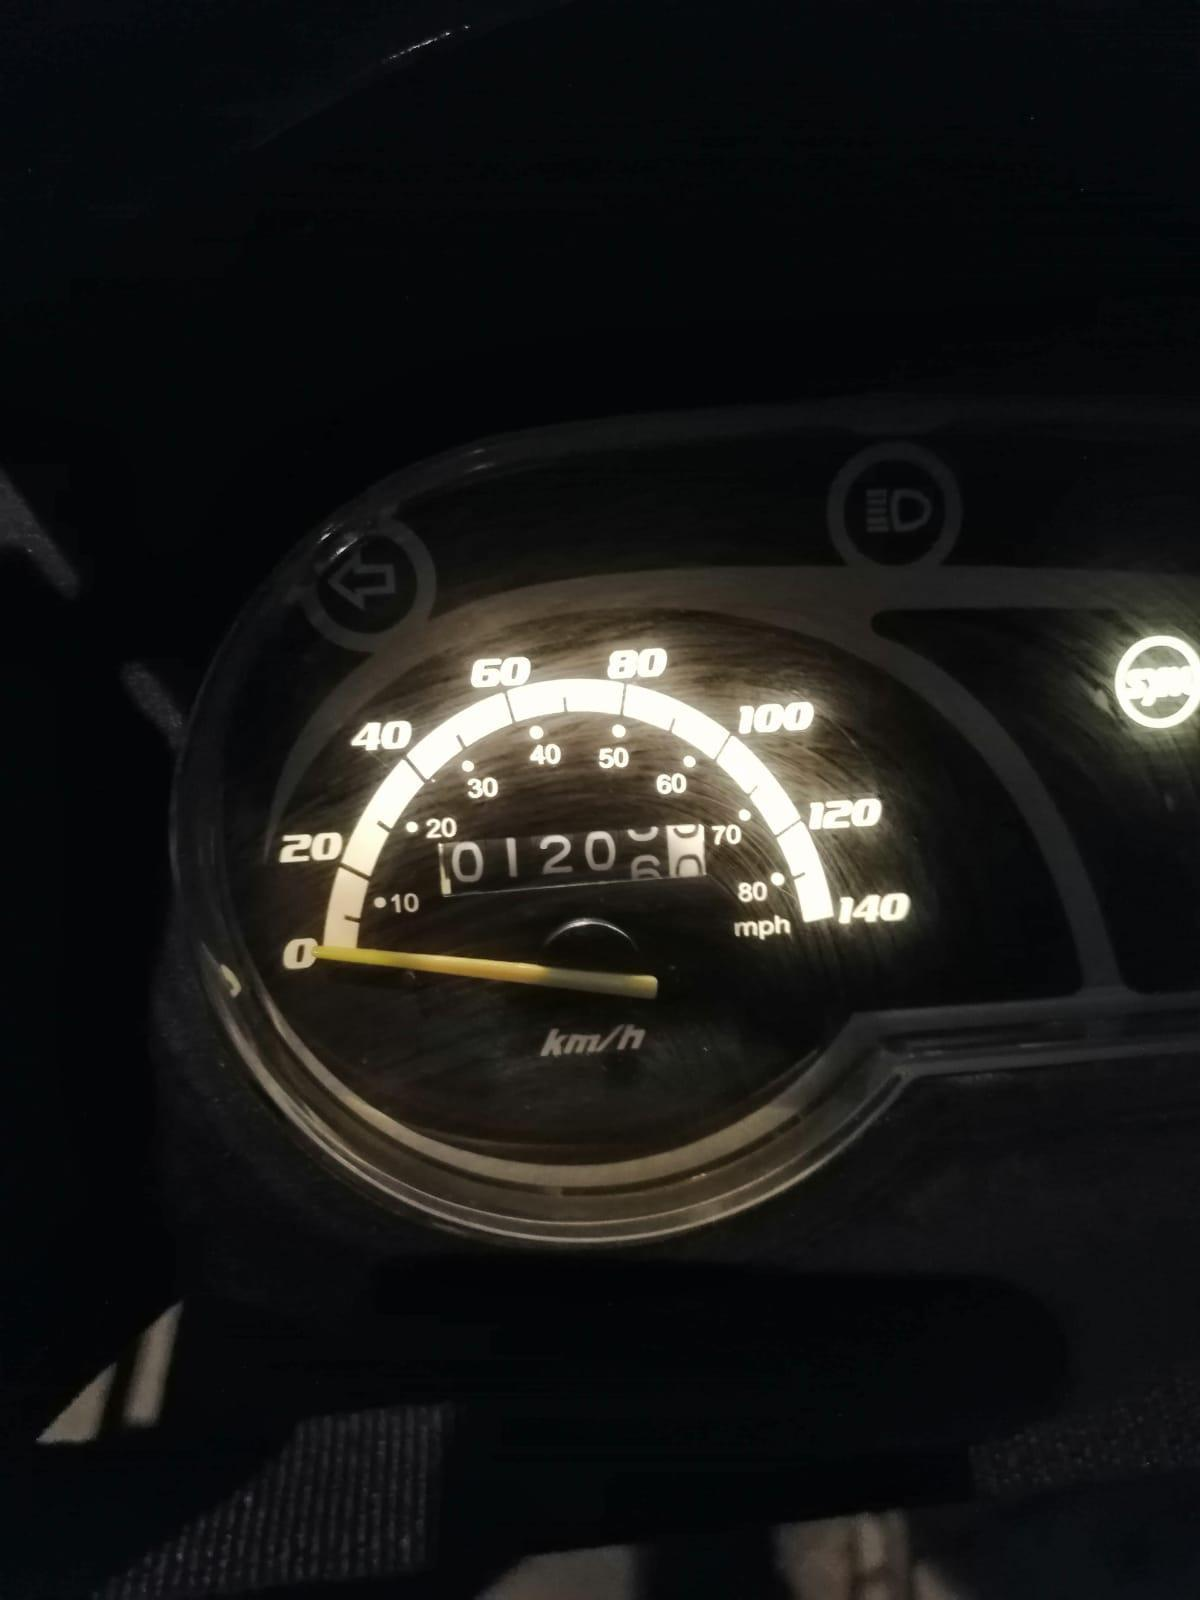0: (449, 842, 490, 886), (580, 829, 616, 876), (673, 847, 705, 886), (440, 814, 458, 837)
1: (500, 829, 522, 884)
2: (534, 831, 575, 877)
6: (626, 850, 666, 888)
odometer: (436, 820, 708, 900)
